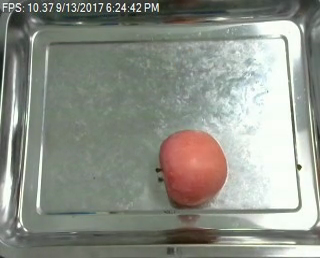Apple: (158, 128, 227, 210)
